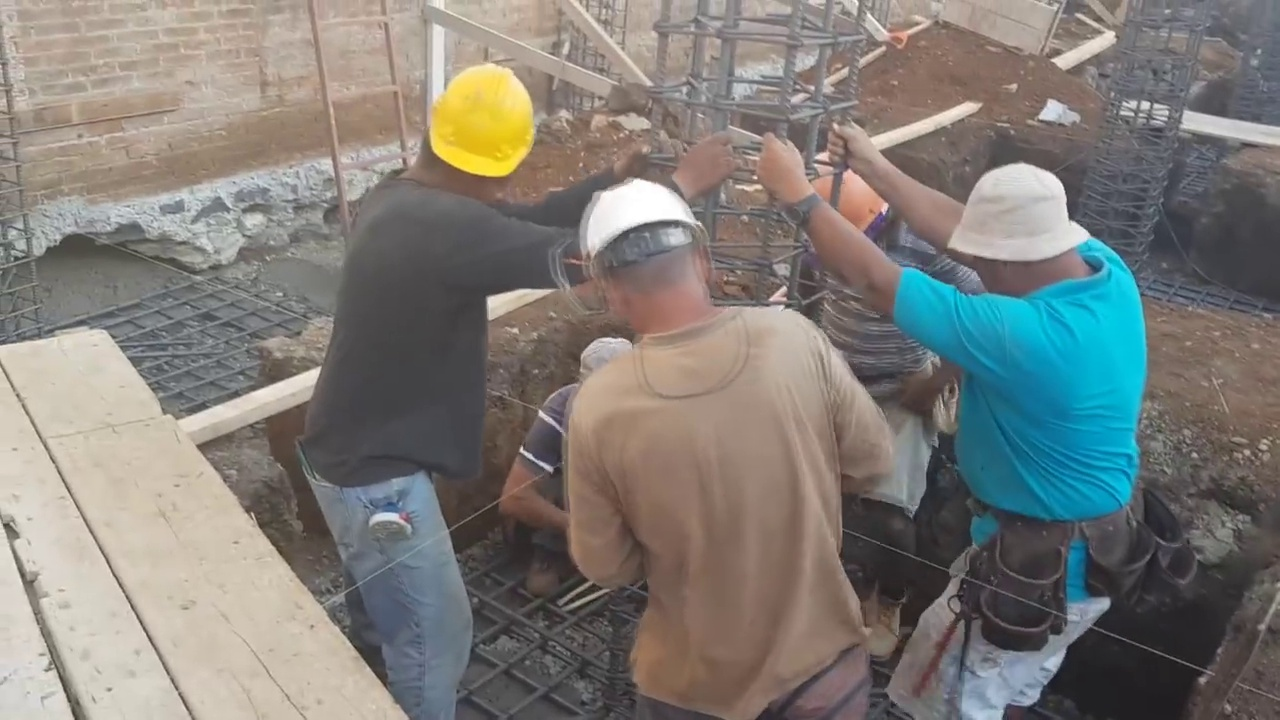helmet: (578, 172, 710, 290), (421, 63, 537, 177), (816, 168, 896, 231)
helmet-off: (952, 161, 1098, 301), (573, 329, 638, 394)
helmet-on: (582, 167, 736, 358), (388, 59, 540, 198), (813, 162, 906, 272)
person: (757, 128, 1165, 720), (280, 63, 586, 707), (556, 167, 905, 720), (796, 141, 948, 666), (503, 329, 650, 593)
